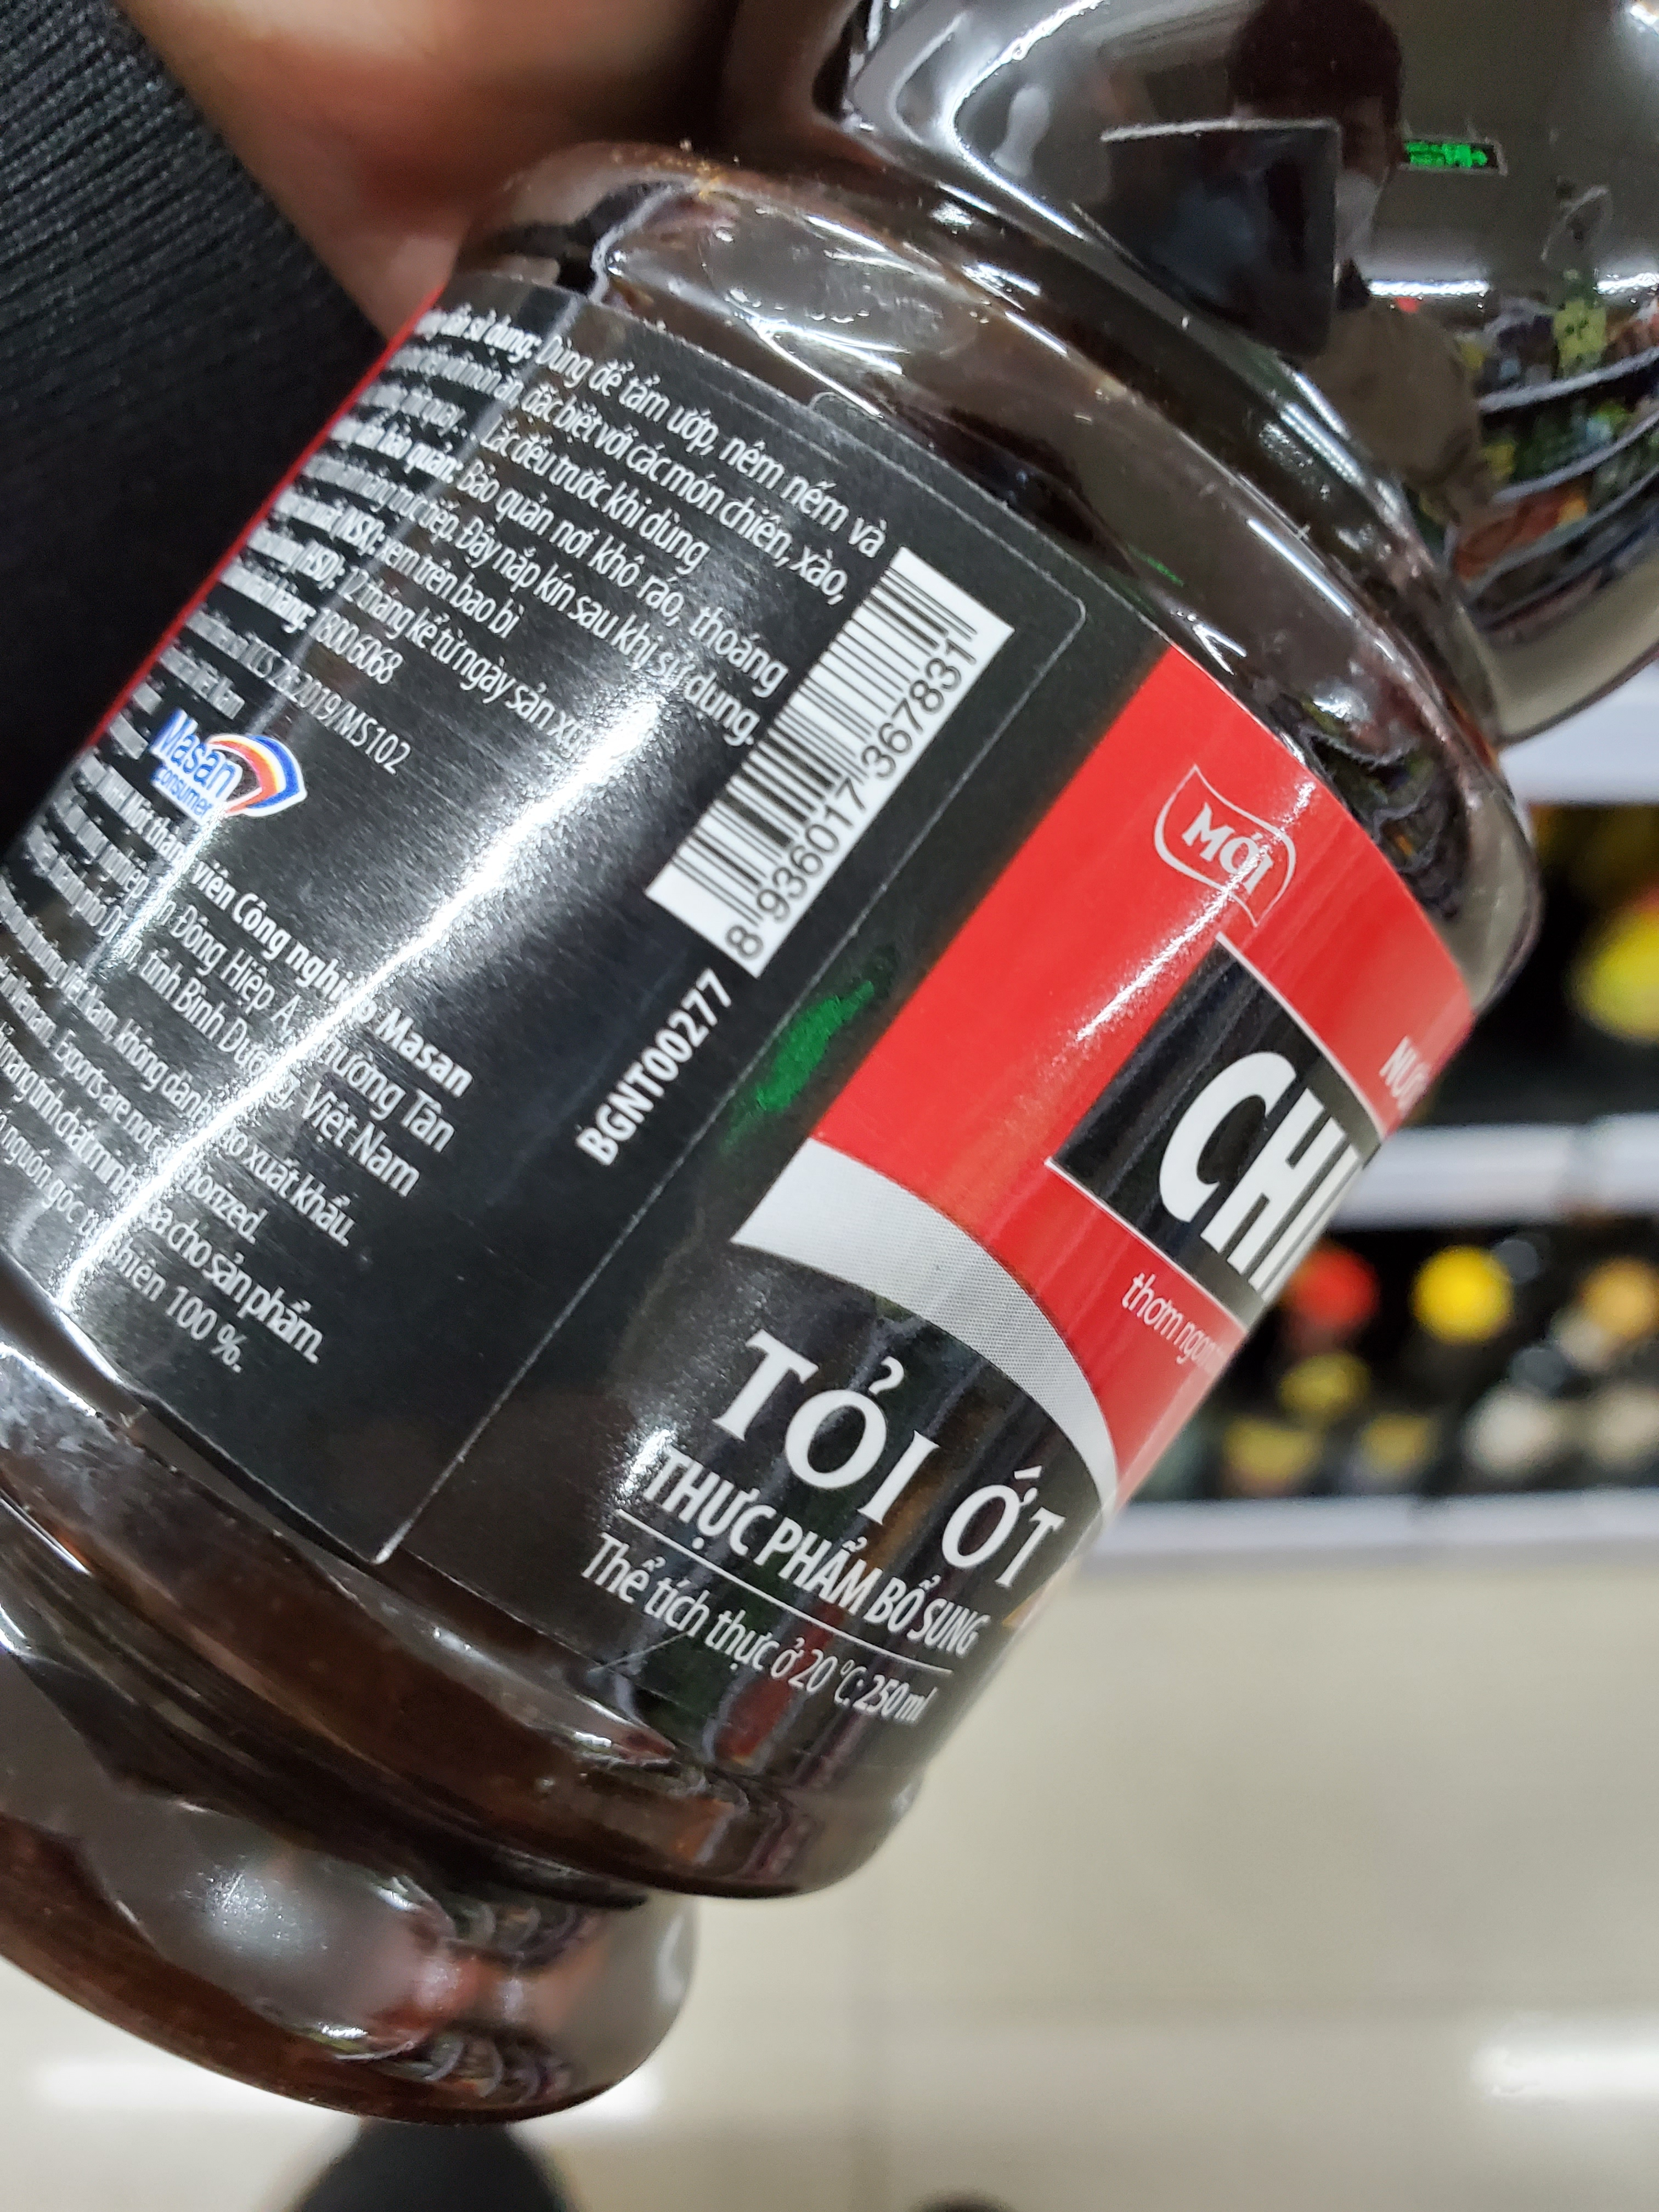barcode: (648, 538, 1011, 970)
